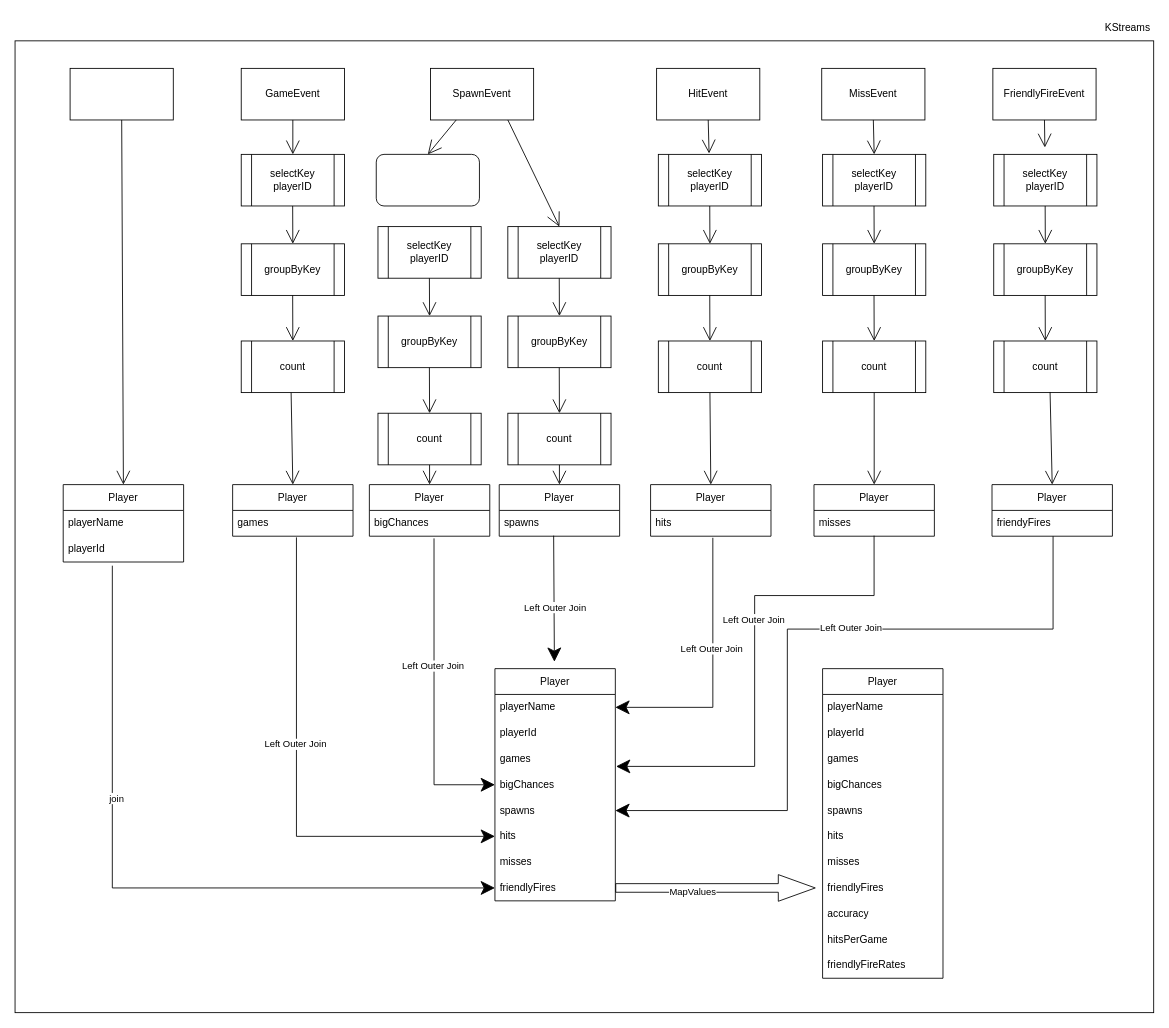
This 1169x1028 diagram has some shape labels left out. The shapes that lost their labels are listed below. From the top down, each one's centre as x and y in pixels, then its label:
At (121,94): "Player Created".
At (427,180): "Filter: Size >50".
